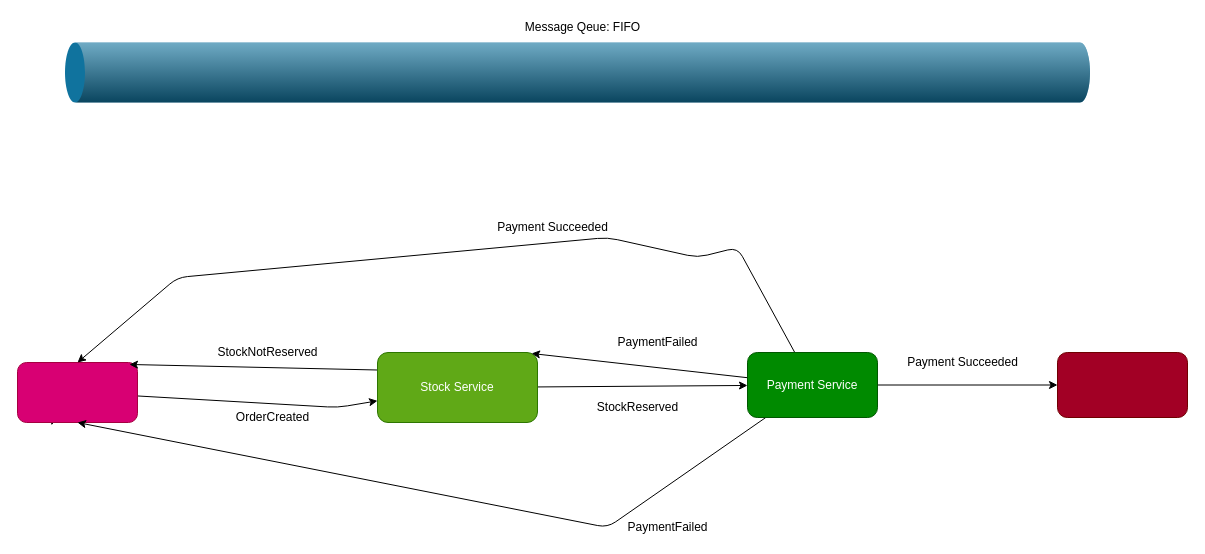
This 1205x554 diagram has some shape labels left out. The shapes that lost their labels are listed below. From the top down, each one's centre as x and y in pixels, then its label:
At pixel 77 392: "Orders".
At pixel 1122 385: "Shipment Service".
